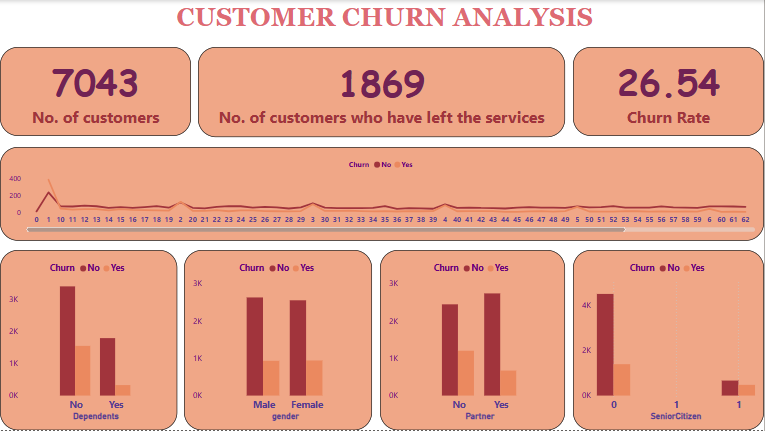

This screenshot's page, from the dashboard's own definition file:
{"tool":"powerbi","page":{"name":"Page 1","canvas":[1280,720],"ordinal":0},"visuals":[{"type":"textbox","box":[10.1,0,1269.9,119.3],"z":0},{"type":"card","fields":{"Values":["Count(WA_Fn-UseC_-Telco-Customer-Churn.customerID)"]},"box":[0,78.7,320,149.1],"z":1000},{"type":"card","fields":{"Values":["CountNonNull(WA_Fn-UseC_-Telco-Customer-Churn.Churn)"]},"box":[331.7,78.7,614.9,150.8],"z":2000},{"type":"card","fields":{"Values":["WA_Fn-UseC_-Telco-Customer-Churn.Churn Rate"]},"box":[960,78.7,320,149.1],"z":3000},{"type":"clusteredColumnChart","fields":{"Y":["CountNonNull(WA_Fn-UseC_-Telco-Customer-Churn.Churn)"],"Category":["WA_Fn-UseC_-Telco-Customer-Churn.Dependents"],"Series":["WA_Fn-UseC_-Telco-Customer-Churn.Churn"]},"box":[0,418.8,296.5,301.6],"z":4000},{"type":"clusteredColumnChart","fields":{"Y":["CountNonNull(WA_Fn-UseC_-Telco-Customer-Churn.Churn)"],"Series":["WA_Fn-UseC_-Telco-Customer-Churn.Churn"],"Category":["WA_Fn-UseC_-Telco-Customer-Churn.gender"]},"box":[308.3,418.8,315,301.6],"z":5000},{"type":"clusteredColumnChart","fields":{"Y":["CountNonNull(WA_Fn-UseC_-Telco-Customer-Churn.Churn)"],"Series":["WA_Fn-UseC_-Telco-Customer-Churn.Churn"],"Category":["WA_Fn-UseC_-Telco-Customer-Churn.Partner"]},"box":[636.6,418.8,309.9,301.6],"z":6000},{"type":"lineChart","fields":{"Category":["WA_Fn-UseC_-Telco-Customer-Churn.tenure"],"Y":["CountNonNull(WA_Fn-UseC_-Telco-Customer-Churn.Churn)"],"Series":["WA_Fn-UseC_-Telco-Customer-Churn.Churn"]},"box":[0,246.3,1280,157.5],"z":7000},{"type":"clusteredColumnChart","fields":{"Y":["CountNonNull(WA_Fn-UseC_-Telco-Customer-Churn.Churn)"],"Series":["WA_Fn-UseC_-Telco-Customer-Churn.Churn"],"Category":["WA_Fn-UseC_-Telco-Customer-Churn.SeniorCitizen"]},"box":[960,418.8,320,301.6],"z":8000}]}

Visuals, with their boxes in screenshot pixels (x1, y1, x2, y2), scaled from the page's 1280x720 canvas onto the 765x431 screenshot:
textbox: region(6, 0, 764, 71)
card - Count(WA_Fn-UseC_-Telco-Customer-Churn.customerID): region(0, 47, 191, 136)
card - CountNonNull(WA_Fn-UseC_-Telco-Customer-Churn.Churn): region(198, 47, 566, 137)
card - WA_Fn-UseC_-Telco-Customer-Churn.Churn Rate: region(574, 47, 764, 136)
clusteredColumnChart - CountNonNull(WA_Fn-UseC_-Telco-Customer-Churn.Churn) x WA_Fn-UseC_-Telco-Customer-Churn.Dependents: region(0, 251, 177, 430)
clusteredColumnChart - CountNonNull(WA_Fn-UseC_-Telco-Customer-Churn.Churn) x WA_Fn-UseC_-Telco-Customer-Churn.Churn: region(184, 251, 373, 430)
clusteredColumnChart - CountNonNull(WA_Fn-UseC_-Telco-Customer-Churn.Churn) x WA_Fn-UseC_-Telco-Customer-Churn.Churn: region(380, 251, 566, 430)
lineChart - WA_Fn-UseC_-Telco-Customer-Churn.tenure x CountNonNull(WA_Fn-UseC_-Telco-Customer-Churn.Churn): region(0, 147, 764, 242)
clusteredColumnChart - CountNonNull(WA_Fn-UseC_-Telco-Customer-Churn.Churn) x WA_Fn-UseC_-Telco-Customer-Churn.Churn: region(574, 251, 764, 430)
